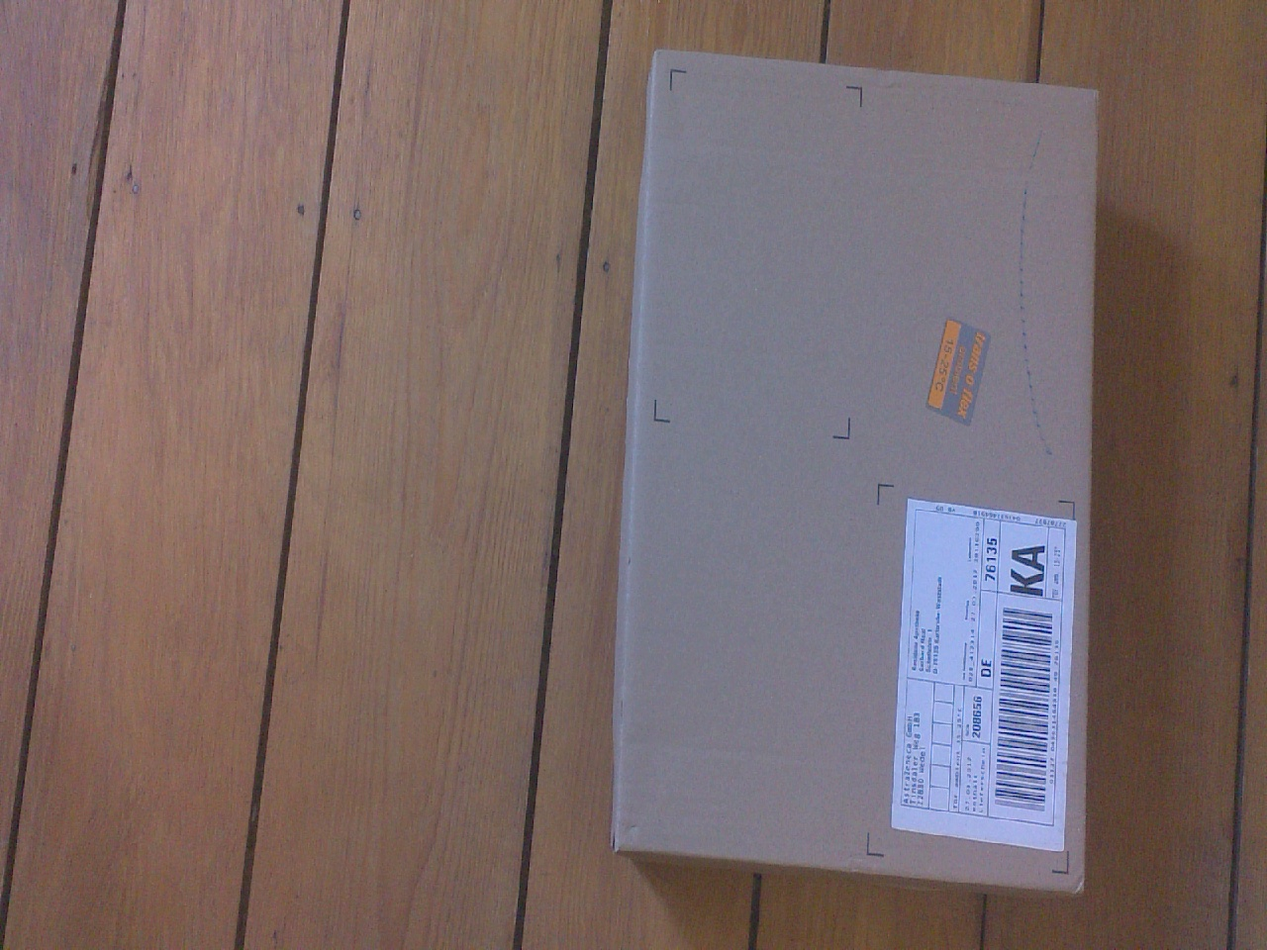good-parcel: (607, 38, 1102, 925)
